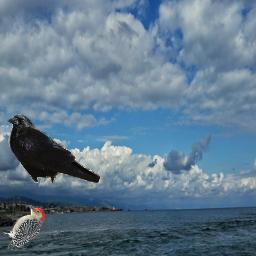Crow: (6, 114, 100, 183)
Woodpecker: (0, 205, 45, 250)
